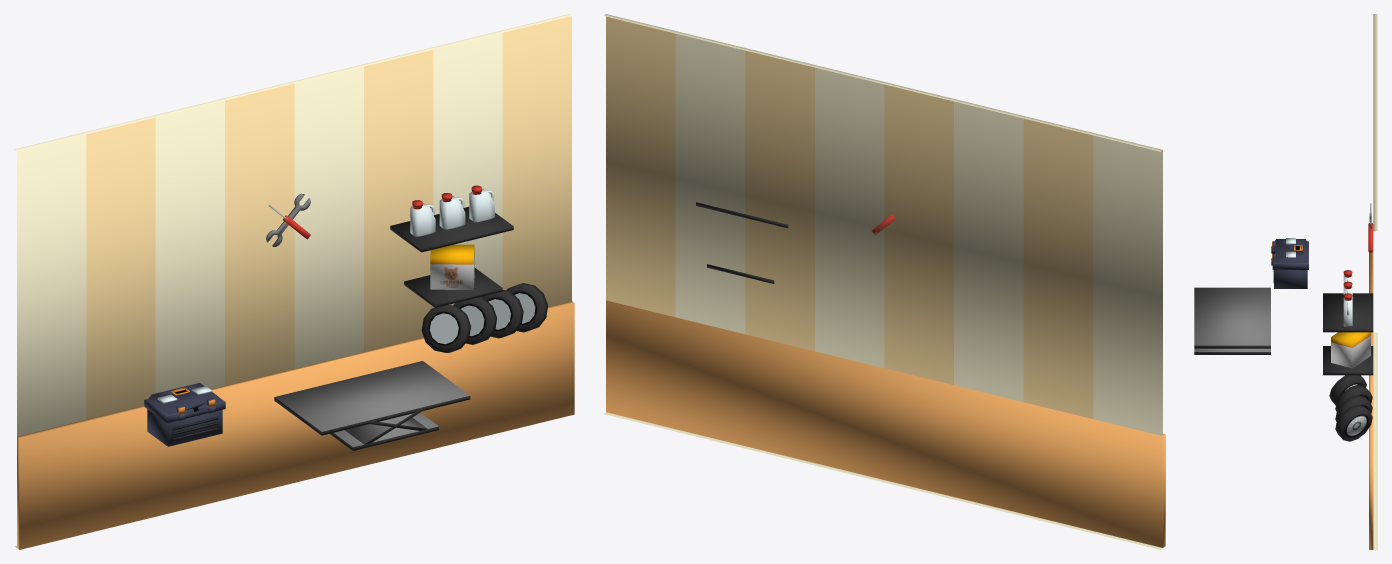
Rendered from MortocycleShop.fbx.
The picture shows the model from 3 angles, left to right: view 1: azimuth 30°, elevation 25°; view 2: azimuth 150°, elevation 25°; view 3: azimuth 270°, elevation 25°; orthographic projection. The views are drawn at different scales.
Parts seen in each view (by area): view 1: Cube.032, Cube.001, Cube.003, Cube.015, Cube.026, JP_Motorcycle_01.006, JP_Motorcycle_01.002, Cube.005, JP_Motorcycle_01.003, JP_Motorcycle_01.004, JP_Motorcycle_01.005, Cube.006 (+4 smaller); view 2: Cube.032, Cube.001; view 3: Cube.003, Cube.032, Cube.015, Cube.026, JP_Motorcycle_01.006, Cube.001, JP_Motorcycle_01.005, Cube.005, Cube.006, JP_Motorcycle_01.002, JP_Motorcycle_01.003, JP_Motorcycle_01.004 (+1 smaller).
Boxes of the visible parts, x1=… form: Cube.032: x1=14, y1=14, x2=571, y2=547; Cube.001: x1=17, y1=301, x2=574, y2=549; Cube.003: x1=274, y1=361, x2=470, y2=435; Cube.015: x1=144, y1=383, x2=225, y2=446; Cube.026: x1=390, y1=206, x2=513, y2=252; JP_Motorcycle_01.006: x1=430, y1=244, x2=474, y2=290; JP_Motorcycle_01.002: x1=421, y1=305, x2=470, y2=352; Cube.005: x1=404, y1=268, x2=502, y2=307; JP_Motorcycle_01.003: x1=453, y1=297, x2=496, y2=344; JP_Motorcycle_01.004: x1=481, y1=290, x2=523, y2=338; JP_Motorcycle_01.005: x1=506, y1=283, x2=547, y2=332; Cube.006: x1=330, y1=412, x2=438, y2=450; Cube.032: x1=603, y1=14, x2=1162, y2=549; Cube.001: x1=606, y1=300, x2=1165, y2=547; Cube.003: x1=1194, y1=287, x2=1270, y2=348; Cube.032: x1=1373, y1=14, x2=1377, y2=549; Cube.015: x1=1271, y1=238, x2=1308, y2=288; Cube.026: x1=1323, y1=293, x2=1373, y2=332; JP_Motorcycle_01.006: x1=1331, y1=332, x2=1370, y2=368; Cube.001: x1=1369, y1=251, x2=1373, y2=549; JP_Motorcycle_01.005: x1=1335, y1=404, x2=1372, y2=441; Cube.005: x1=1323, y1=346, x2=1373, y2=375; Cube.006: x1=1194, y1=348, x2=1270, y2=354; JP_Motorcycle_01.002: x1=1329, y1=375, x2=1366, y2=405; JP_Motorcycle_01.003: x1=1335, y1=384, x2=1372, y2=411; JP_Motorcycle_01.004: x1=1335, y1=395, x2=1372, y2=421.
Size of the model in its own units: 296 by 202 by 105.
Materials: 3 (3 with a texture image).
